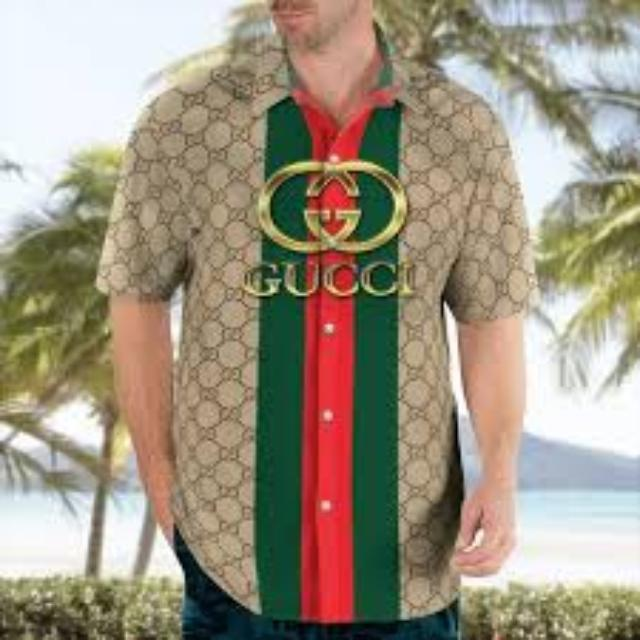Gucci: (251, 157, 409, 253), (241, 264, 417, 304)
